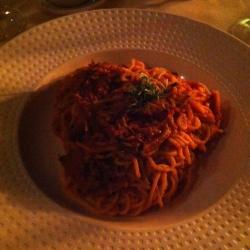bolonese_pasta: (47, 53, 227, 220)
